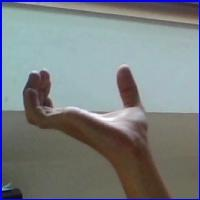B: (20, 60, 166, 169)
